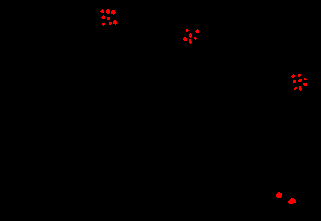Target: (288, 198, 296, 204), (276, 192, 282, 198), (111, 10, 116, 15), (106, 9, 110, 14), (113, 20, 117, 25), (100, 9, 104, 13), (101, 15, 105, 19), (195, 29, 199, 33), (183, 37, 187, 41), (291, 74, 295, 78), (189, 33, 192, 38), (189, 39, 192, 44), (299, 86, 302, 91), (298, 79, 302, 82), (303, 83, 307, 86), (107, 17, 110, 20), (109, 22, 112, 25), (102, 23, 105, 26), (186, 29, 189, 32), (194, 37, 197, 40), (298, 74, 301, 77), (293, 80, 296, 83), (294, 87, 297, 90), (304, 78, 307, 80)
